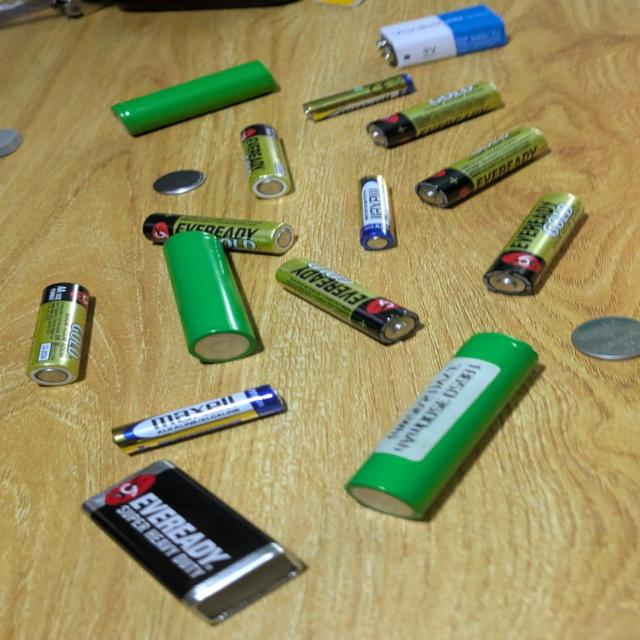9V: (81, 458, 307, 621), (376, 3, 509, 69)
AA: (275, 259, 421, 344), (413, 126, 546, 208), (479, 192, 583, 295), (364, 81, 504, 148), (26, 284, 91, 386), (141, 212, 294, 254), (239, 123, 292, 200)
AAA: (106, 378, 296, 462), (301, 72, 417, 125), (345, 170, 410, 257)
COIN: (568, 316, 640, 361), (150, 169, 207, 196)
